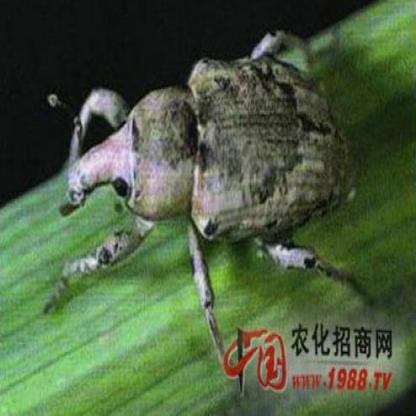rice-bug: (65, 32, 363, 266)
